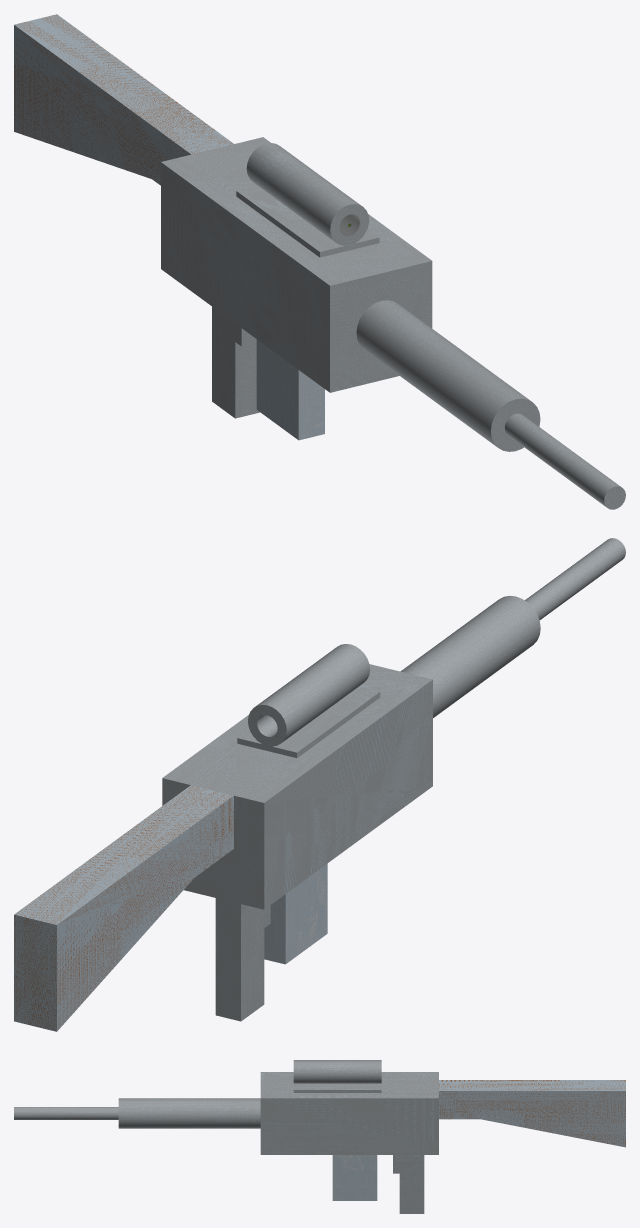
The model's file is rifle.fbx.
3 views of the same model, one above another, from view 1: azimuth 30°, elevation 25°; view 2: azimuth 150°, elevation 25°; view 3: azimuth 270°, elevation 25° (orthographic). The views are drawn at different scales.
Parts seen in each view (by area): view 1: Component_2_1; view 2: Component_2_1; view 3: Component_2_1.
Boxes of the visible parts, x1=… form: Component_2_1: x1=14, y1=14, x2=625, y2=509; Component_2_1: x1=14, y1=538, x2=625, y2=1031; Component_2_1: x1=14, y1=1060, x2=625, y2=1213.
Size of the model in its own units: 0.4905 by 1.3 by 4.82.
